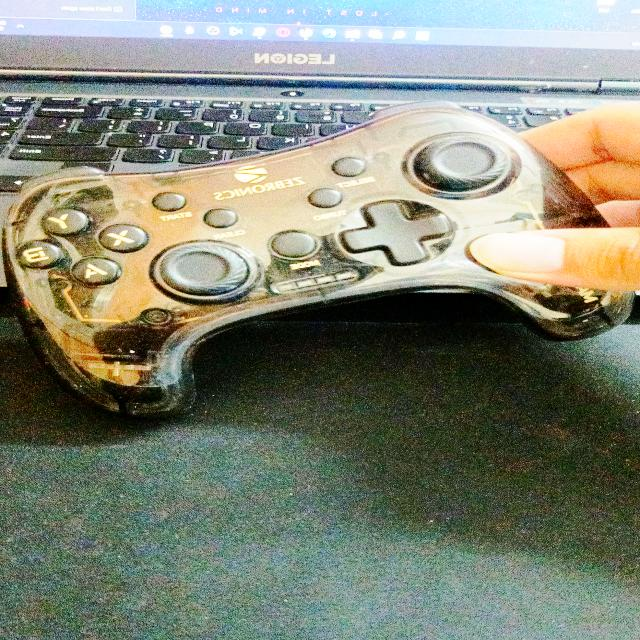gamepad: (2, 100, 638, 419)
